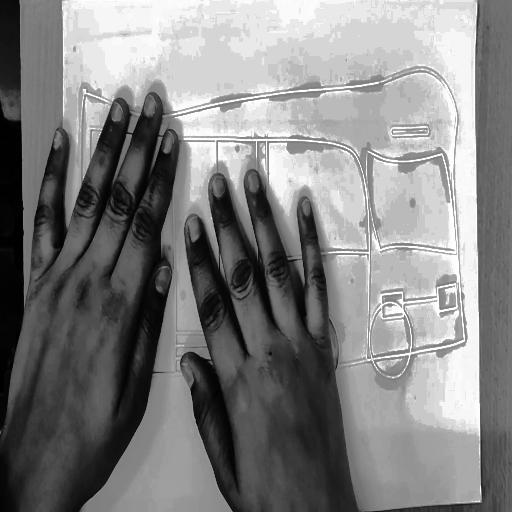bottom_right: (479, 493, 486, 506)
bus: (73, 52, 474, 398)
